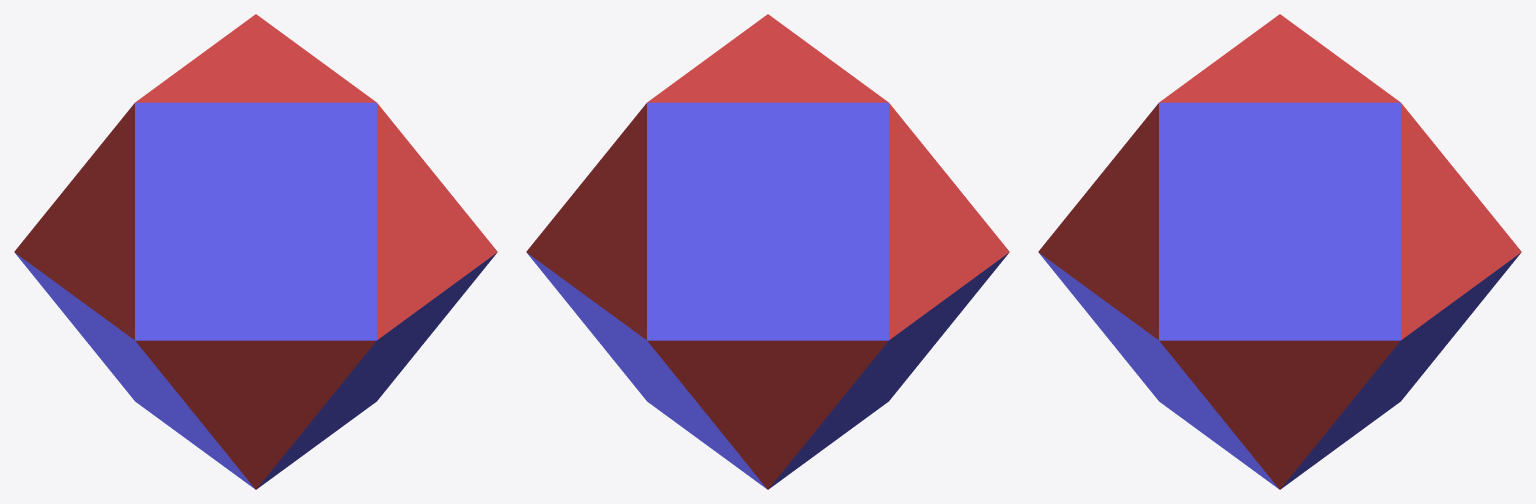
Rendered from Cubocaedro.obj.
The picture shows the model from 3 angles, left to right: view 1: azimuth 30°, elevation 25°; view 2: azimuth 150°, elevation 25°; view 3: azimuth 270°, elevation 25°; orthographic projection.
Parts seen in each view (by area): view 1: VIFS002, VIFS001; view 2: VIFS002, VIFS001; view 3: VIFS002, VIFS001.
Boxes of the visible parts, left/top/right/bottom form: VIFS002: left=15, top=102, right=496, bottom=489; VIFS001: left=14, top=14, right=497, bottom=489; VIFS002: left=527, top=102, right=1008, bottom=489; VIFS001: left=526, top=14, right=1009, bottom=489; VIFS002: left=1039, top=102, right=1520, bottom=489; VIFS001: left=1038, top=14, right=1521, bottom=489.
Size of the model in its own units: 2 by 1.89 by 2.31.
